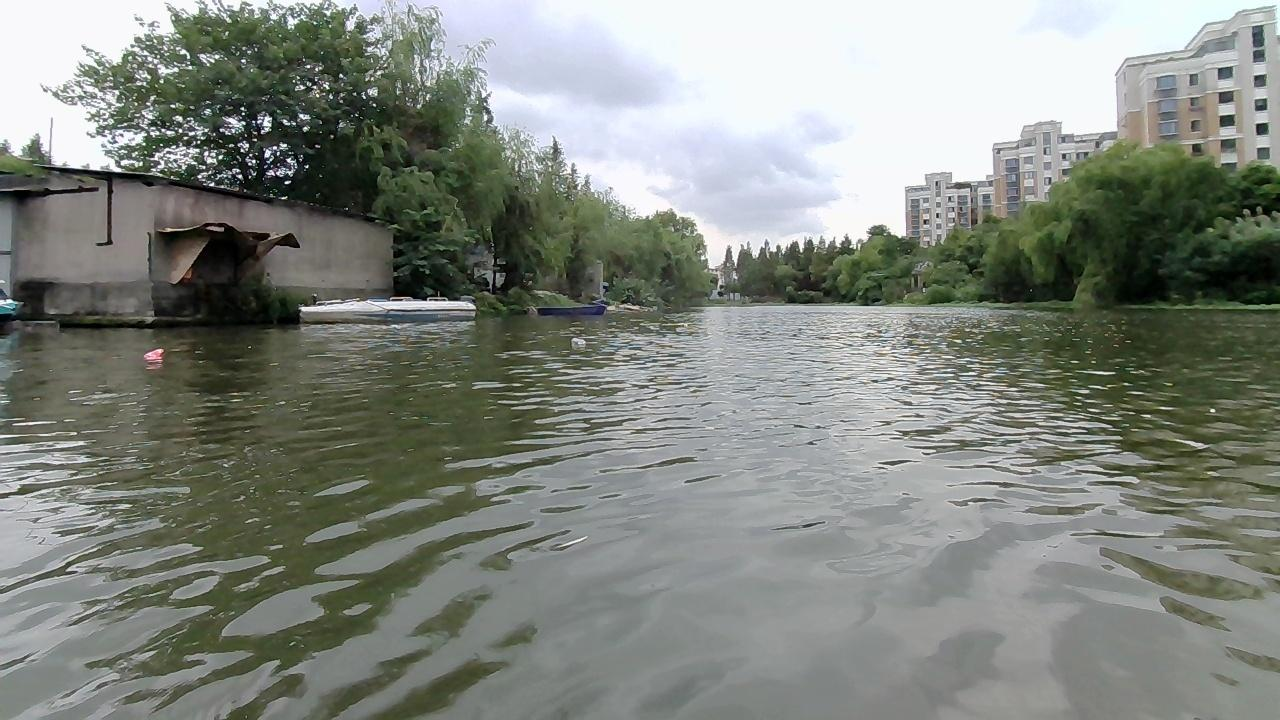bottle: (142, 345, 165, 363), (571, 333, 591, 348)
